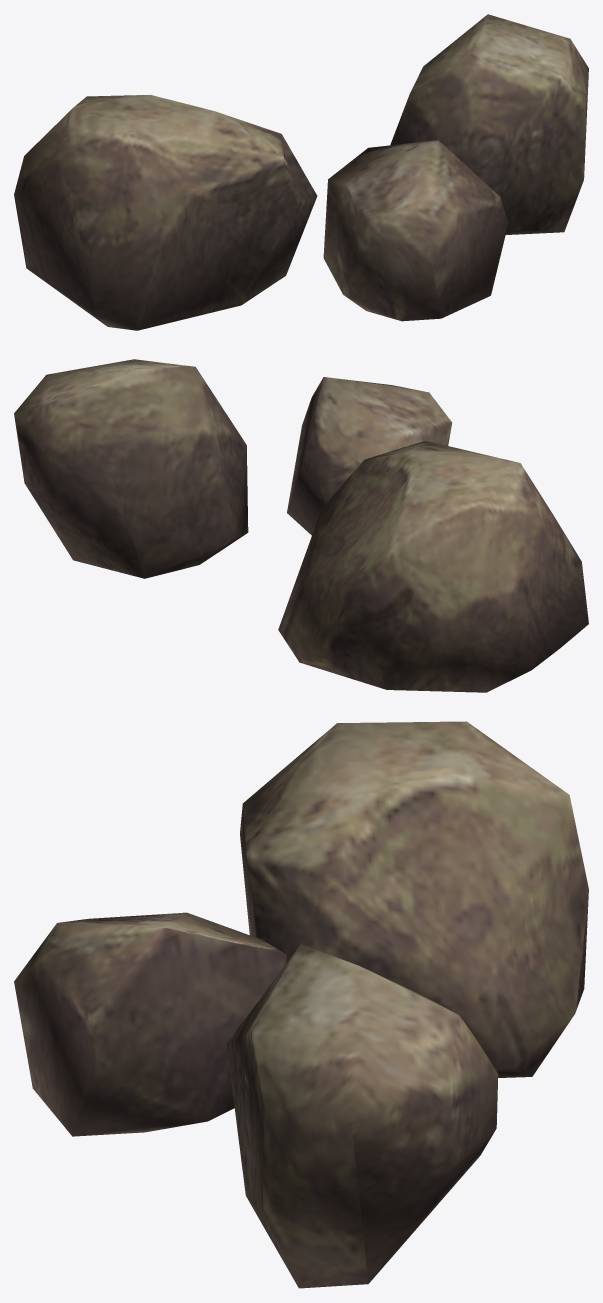
File: stone_002.FBX
The picture shows the model from 3 angles, top to bottom: view 1: azimuth 30°, elevation 25°; view 2: azimuth 150°, elevation 25°; view 3: azimuth 270°, elevation 25°; orthographic projection. The views are drawn at different scales.
Parts seen in each view (by area): view 1: stone_002_01; view 2: stone_002_01; view 3: stone_002_01.
Boxes of the visible parts, x1=… form: stone_002_01: x1=14, y1=14, x2=588, y2=330; stone_002_01: x1=14, y1=359, x2=588, y2=692; stone_002_01: x1=14, y1=721, x2=588, y2=1288.
Size of the model in its own units: 1.79 by 0.6445 by 1.19.
